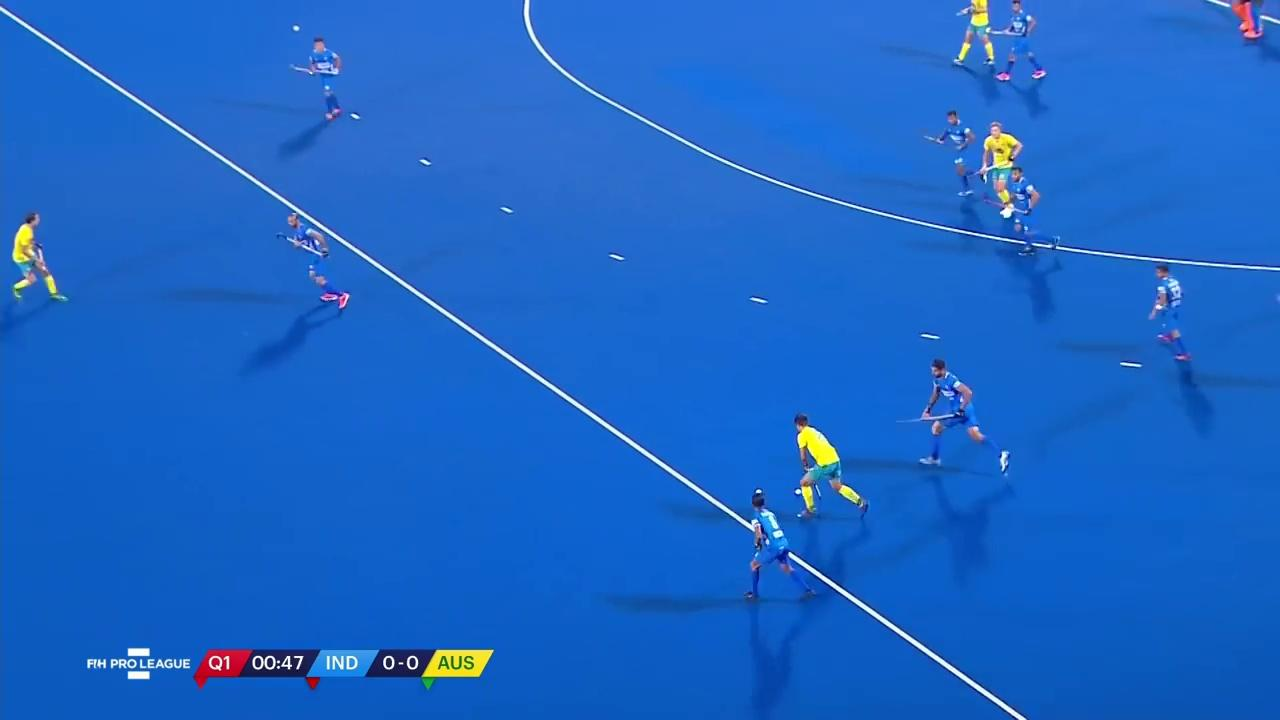ball: (789, 482, 804, 498)
